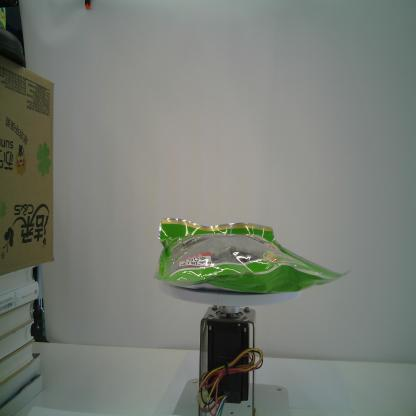Dried Food: (152, 214, 353, 296)
